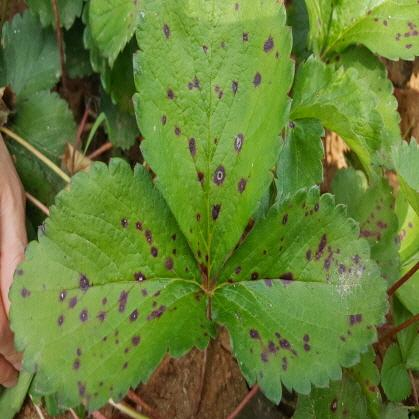Leaf Spot: (7, 155, 218, 416), (131, 0, 296, 288), (209, 184, 390, 404), (329, 166, 418, 290), (323, 44, 403, 156), (320, 0, 418, 62), (271, 117, 326, 204), (88, 0, 140, 71), (343, 346, 388, 418), (291, 376, 368, 418), (285, 0, 327, 62)
